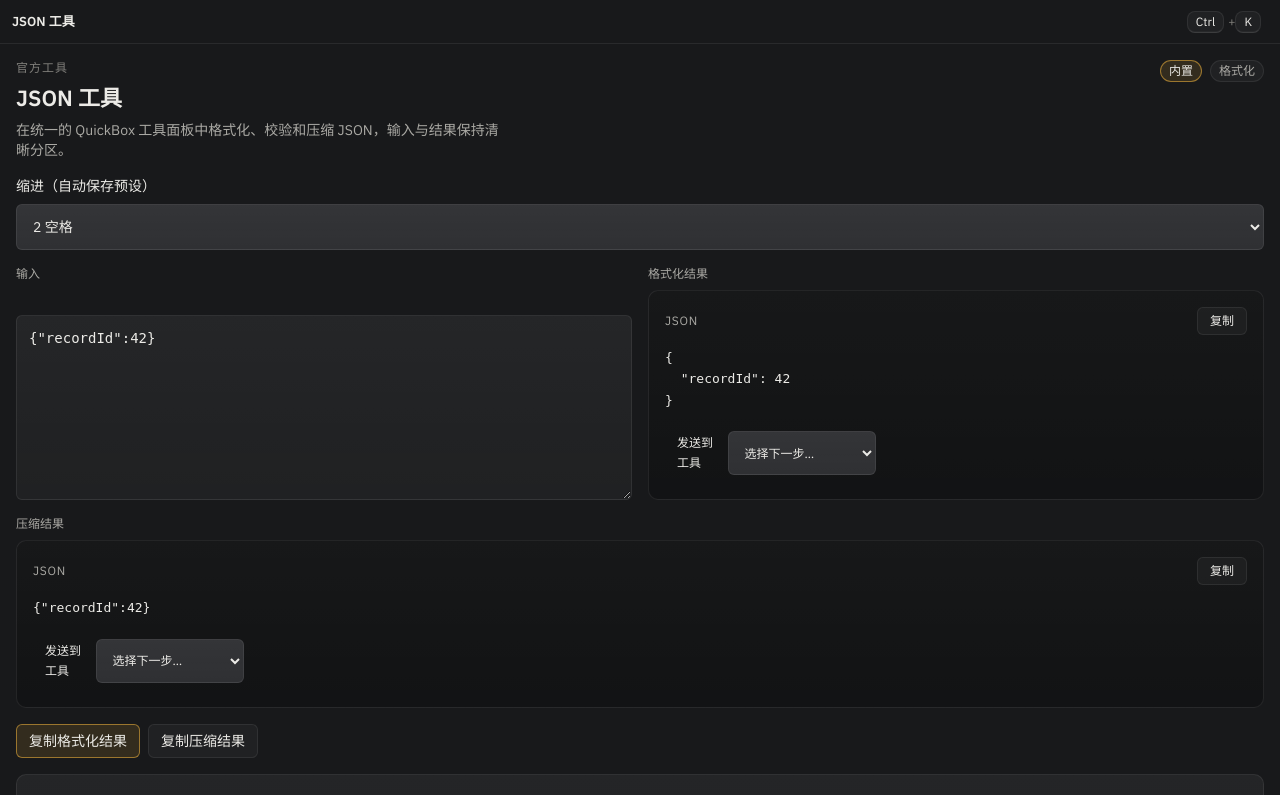
Scenario: JSON 输入发送到 TypeScript 工具，精确保留数据
Expected: the text box labelled "输入" holds "{\"recordId\":42}", [16,315,632,500]
Select "TypeScript 类型" in the dropdown labelled "发送到工具" below "{ \"recordId\": 42 }" at (802, 453), box [728,431,876,475]
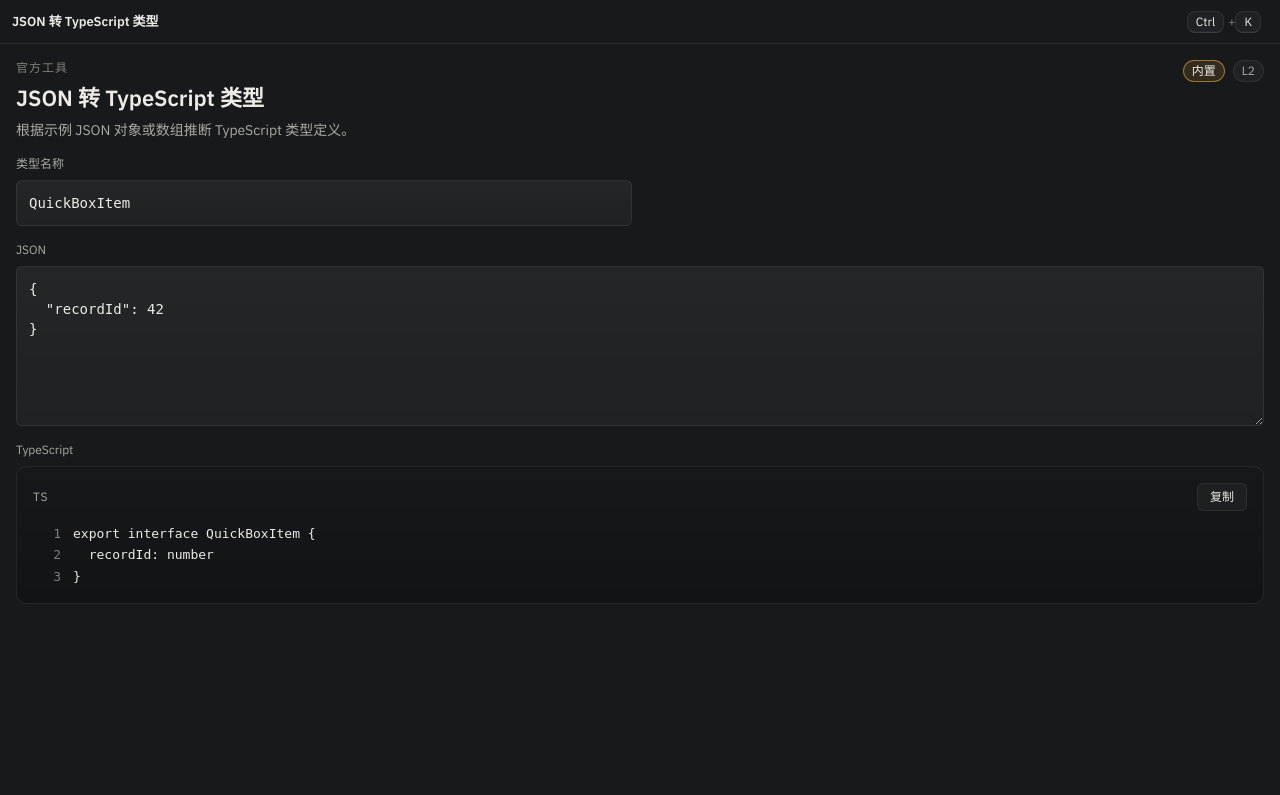
Now the text "recordId: number" is shown, box [73,547,214,562]
